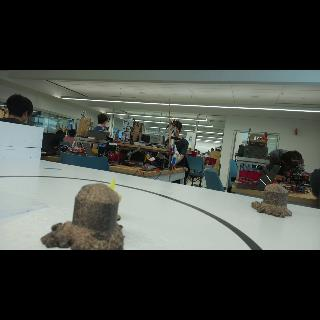teletubby: (110, 179, 122, 201)
